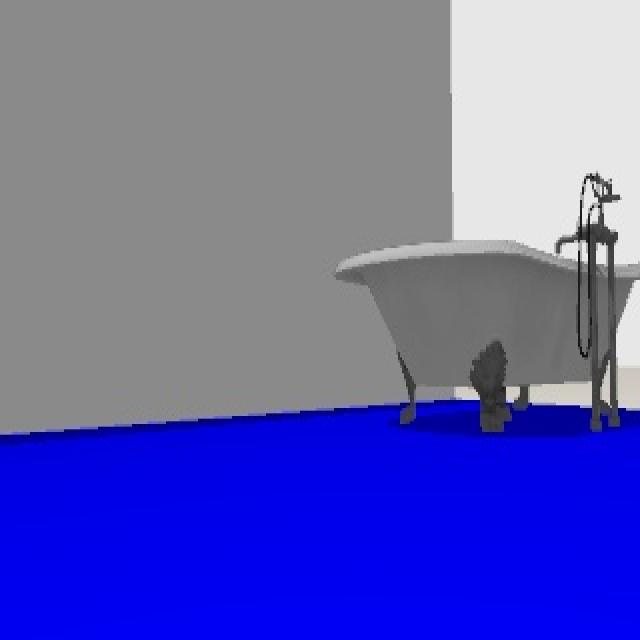bathtub: (331, 172, 640, 436)
